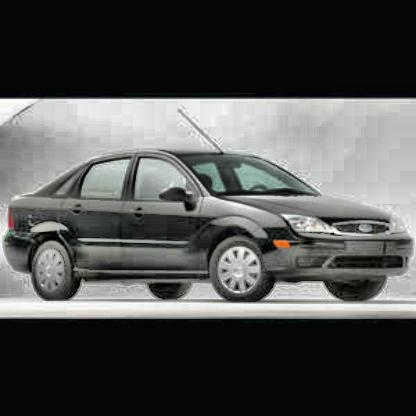Ford Focus Sedan 2007: (4, 149, 416, 302)
